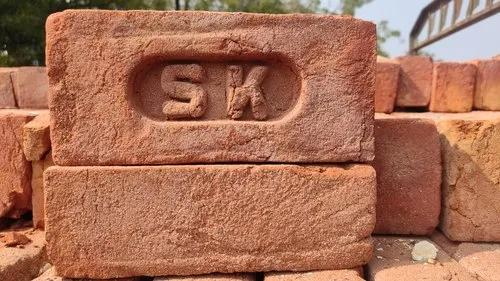brick: (50, 13, 373, 164), (45, 165, 373, 278), (373, 120, 437, 239), (443, 121, 498, 243), (432, 62, 477, 112), (398, 58, 430, 110), (375, 62, 397, 113), (475, 62, 497, 111)
